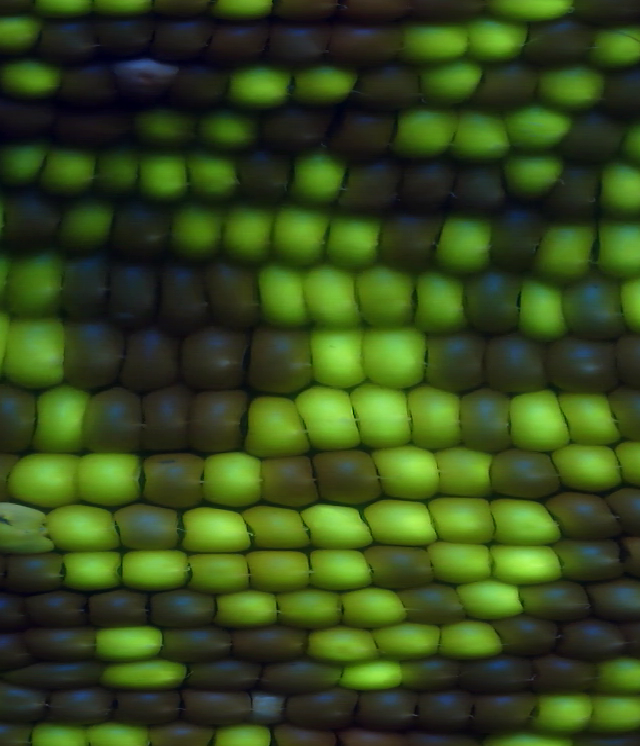fluorescent: (3, 313, 65, 390), (349, 382, 415, 447), (362, 327, 429, 390), (299, 385, 363, 449), (305, 325, 368, 390), (45, 502, 118, 556), (245, 396, 310, 456), (75, 450, 143, 507), (270, 204, 328, 270), (9, 452, 78, 507), (505, 387, 567, 448), (435, 213, 492, 279), (550, 441, 623, 492), (490, 499, 563, 550), (6, 254, 65, 317), (300, 501, 372, 552), (218, 206, 278, 267), (365, 497, 436, 548), (303, 266, 360, 328), (533, 225, 595, 281), (511, 279, 566, 342), (408, 386, 461, 450), (357, 267, 412, 328), (36, 385, 85, 453), (489, 542, 560, 588), (258, 261, 306, 329), (202, 452, 261, 507), (178, 507, 250, 552), (426, 538, 494, 585), (168, 202, 223, 260), (429, 494, 493, 543), (563, 389, 618, 446), (376, 445, 438, 495), (323, 216, 377, 273), (414, 275, 467, 333), (421, 59, 483, 108), (377, 451, 443, 497), (395, 109, 458, 157), (460, 577, 527, 622), (453, 112, 513, 162), (308, 624, 376, 668), (506, 103, 571, 149), (242, 502, 308, 547), (278, 587, 344, 632), (119, 548, 190, 589), (306, 546, 369, 592), (539, 65, 606, 108), (40, 149, 100, 197), (57, 200, 117, 247), (0, 502, 55, 553), (597, 218, 640, 283), (339, 586, 407, 627), (396, 25, 469, 63), (243, 550, 309, 592), (102, 658, 186, 691), (216, 586, 280, 629), (438, 448, 494, 497), (188, 552, 251, 595), (372, 621, 442, 659), (192, 110, 253, 153), (63, 548, 121, 593), (288, 154, 342, 202), (228, 69, 296, 107), (504, 150, 561, 194), (466, 20, 528, 60), (533, 692, 593, 733), (93, 625, 163, 660), (598, 162, 640, 220), (292, 66, 356, 104), (139, 157, 190, 202), (188, 157, 239, 202), (1, 60, 58, 99), (3, 142, 48, 191), (442, 623, 501, 660), (589, 692, 640, 732), (343, 657, 401, 692), (98, 152, 143, 197), (138, 108, 193, 142), (592, 26, 640, 63), (597, 655, 640, 694), (0, 17, 38, 52)
nonfluorescent: (107, 193, 171, 265), (246, 325, 309, 395), (312, 446, 383, 507), (545, 332, 617, 392), (61, 321, 123, 390), (83, 386, 143, 456), (481, 331, 548, 393), (185, 389, 246, 457), (183, 324, 244, 389), (464, 269, 523, 336), (377, 211, 442, 271), (0, 185, 62, 247), (563, 273, 622, 337), (455, 387, 513, 451), (142, 450, 203, 510), (121, 324, 178, 388), (487, 210, 543, 274), (548, 487, 618, 538), (206, 257, 258, 325), (428, 332, 486, 392), (257, 103, 328, 152), (112, 504, 183, 553), (357, 57, 418, 113), (145, 385, 192, 457), (64, 252, 115, 317), (365, 542, 437, 588), (330, 22, 396, 71), (338, 161, 400, 213), (6, 658, 98, 693), (233, 149, 291, 204), (330, 113, 395, 162), (258, 457, 319, 509), (491, 449, 557, 497), (158, 259, 208, 322), (554, 536, 621, 582), (228, 627, 308, 665), (267, 22, 333, 68), (477, 59, 534, 112), (287, 692, 362, 732), (523, 21, 588, 67), (451, 164, 507, 217), (112, 259, 160, 320), (261, 661, 338, 699), (148, 16, 207, 65), (52, 109, 128, 147), (0, 386, 43, 452), (517, 581, 595, 617), (401, 160, 452, 215), (148, 587, 218, 627), (27, 623, 98, 662), (561, 112, 615, 163), (548, 163, 597, 219), (163, 625, 233, 664), (88, 589, 154, 630), (187, 657, 262, 693), (176, 689, 251, 725), (561, 617, 620, 662), (113, 688, 179, 728), (34, 21, 96, 63), (58, 65, 118, 108), (421, 689, 478, 734), (466, 658, 539, 693), (118, 59, 177, 102), (362, 689, 421, 732), (48, 688, 113, 727), (172, 65, 232, 107), (478, 693, 539, 734), (23, 592, 88, 629), (536, 651, 593, 693), (402, 585, 463, 623), (211, 23, 267, 64), (10, 554, 67, 594), (0, 677, 48, 723), (96, 17, 150, 57), (500, 617, 558, 654), (593, 577, 640, 622), (598, 64, 640, 110), (402, 658, 466, 688), (609, 389, 640, 444), (0, 106, 52, 137), (250, 690, 283, 729)
